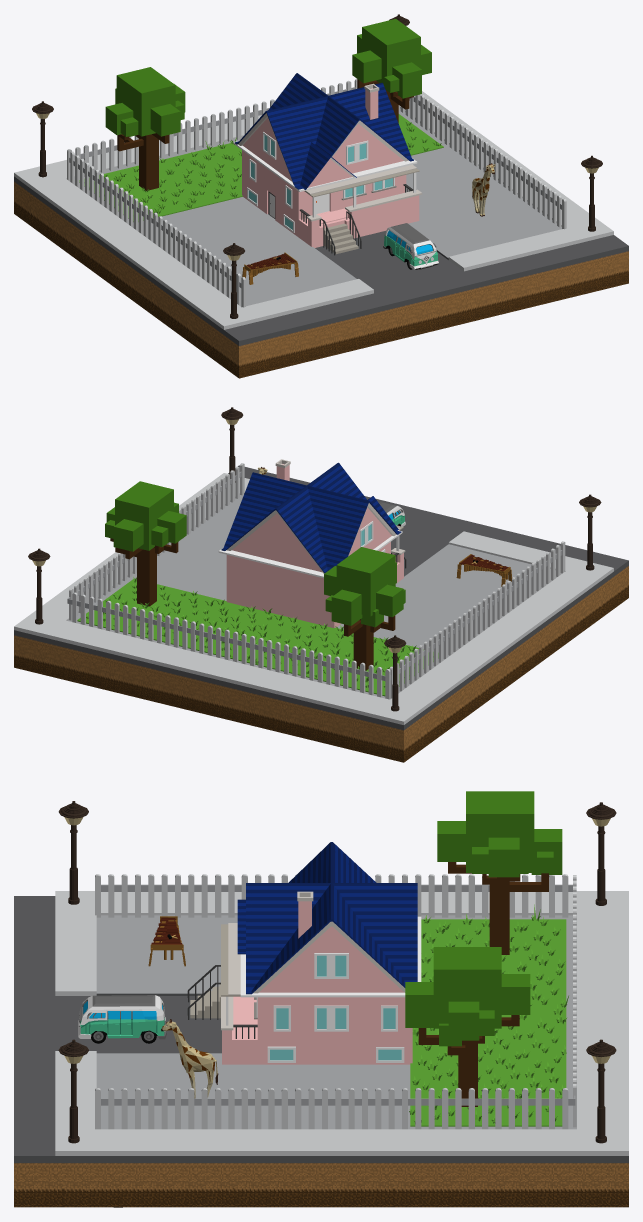
3 views of the same model, one above another, from view 1: azimuth 30°, elevation 25°; view 2: azimuth 150°, elevation 25°; view 3: azimuth 270°, elevation 25° (orthographic). The views are drawn at different scales.
Parts seen in each view (by area): view 1: Cube.004, Cube.313, VEHICLES_VAN, OBJRANDOM_MARIMBA, ANIMAL_JIRAFA; view 2: Cube.004, Cube.313, OBJRANDOM_MARIMBA; view 3: Cube.004, Cube.313, VEHICLES_VAN, ANIMAL_JIRAFA, OBJRANDOM_MARIMBA.
Part boxes in pixels (x1=…): Cube.004: x1=14, y1=14, x2=628, y2=378; Cube.313: x1=233, y1=73, x2=422, y2=255; VEHICLES_VAN: x1=383, y1=223, x2=438, y2=270; OBJRANDOM_MARIMBA: x1=242, y1=252, x2=298, y2=284; ANIMAL_JIRAFA: x1=472, y1=163, x2=495, y2=216; Cube.004: x1=14, y1=407, x2=628, y2=762; Cube.313: x1=218, y1=459, x2=406, y2=627; OBJRANDOM_MARIMBA: x1=456, y1=554, x2=512, y2=586; Cube.004: x1=14, y1=791, x2=628, y2=1207; Cube.313: x1=187, y1=842, x2=421, y2=1064; VEHICLES_VAN: x1=78, y1=995, x2=166, y2=1043; ANIMAL_JIRAFA: x1=161, y1=1019, x2=218, y2=1098; OBJRANDOM_MARIMBA: x1=148, y1=916, x2=185, y2=966.
Size of the model in its own units: 4000 by 1574 by 4000.
40 materials, 3 textured.
